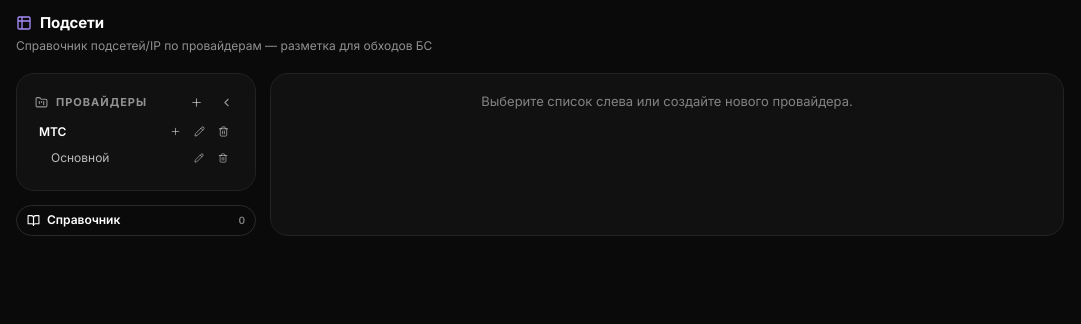
Test case: Subnets › таблица рендерится; иконки операторов видны без режима правки
Click the text "Основной": (80, 157) 51,150 -> 109,164
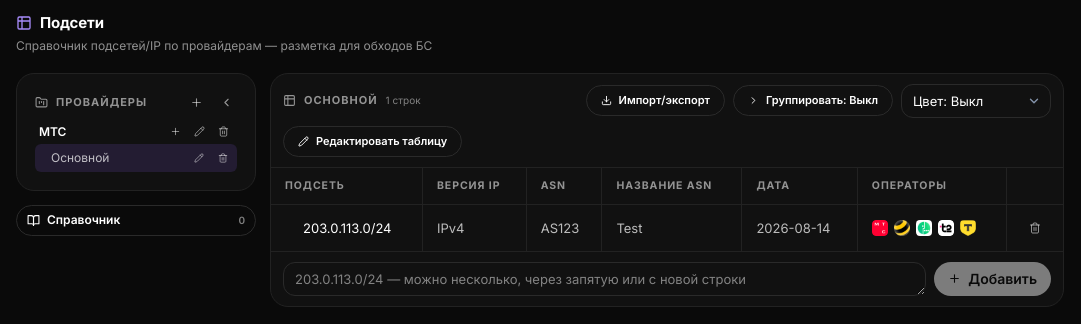
Check: the text "203.0.113.0/24" is shown, box 303,220 -> 392,236
Check: the text "AS123" is shown, box 541,220 -> 579,236
Check: the number of pictures is 5, box 872,220 -> 888,236; 894,220 -> 910,236; 916,220 -> 932,236; 938,220 -> 954,236; 960,220 -> 976,236
